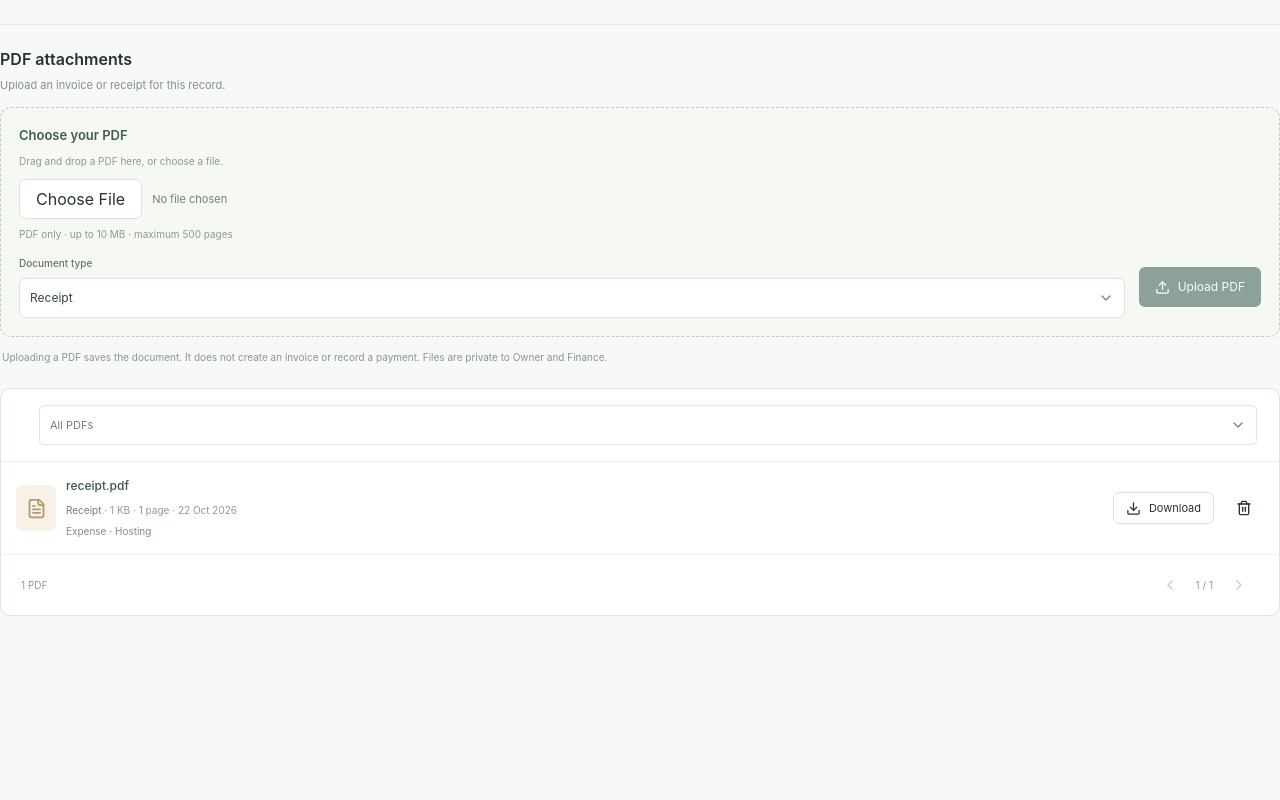
Test: requires confirmation before deleting and refreshes the list after deletion
Click the button named "Delete receipt.pdf" at (1244, 508), box [1224,488,1264,528]
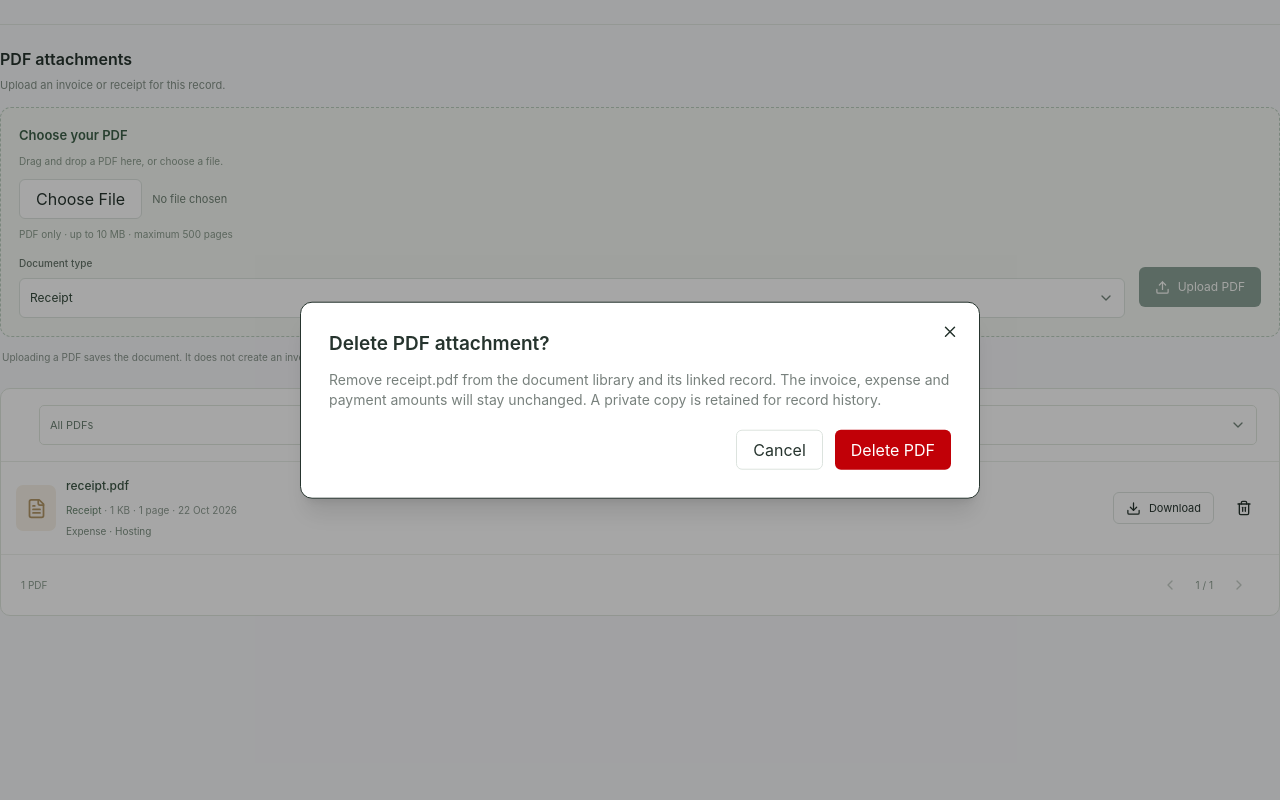
Click the button "Cancel" at (780, 449), box [736,429,823,469]
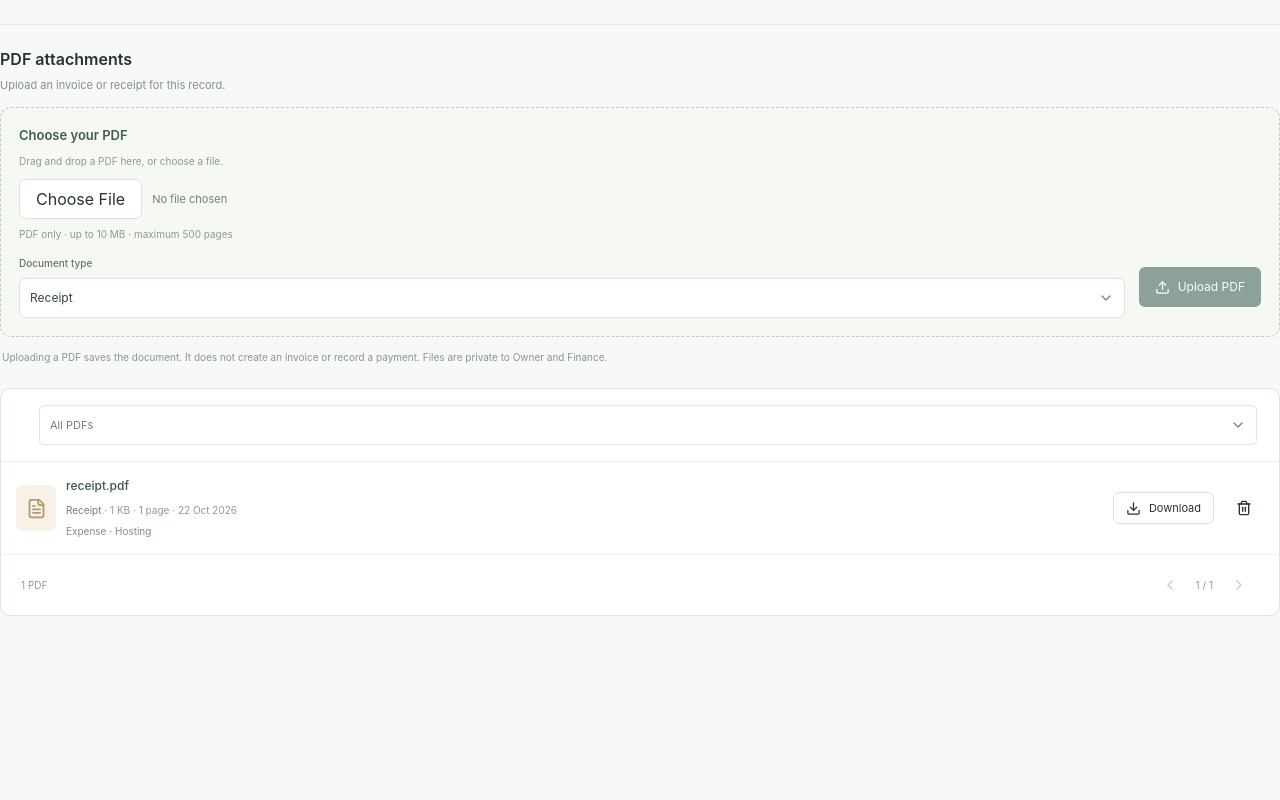
Click the button named "Delete receipt.pdf" at (1244, 508), box [1224,488,1264,528]
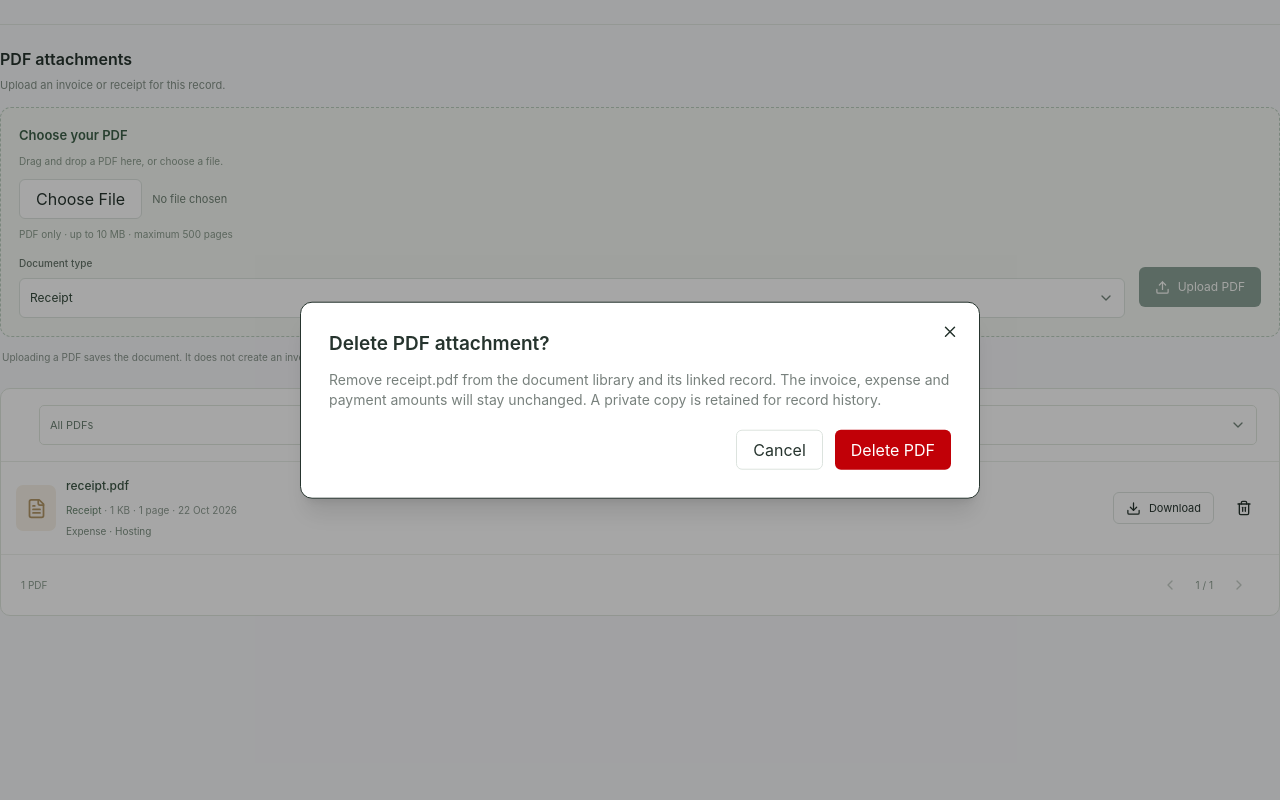
Click the button "Delete PDF" at (893, 449), box [835,429,951,469]
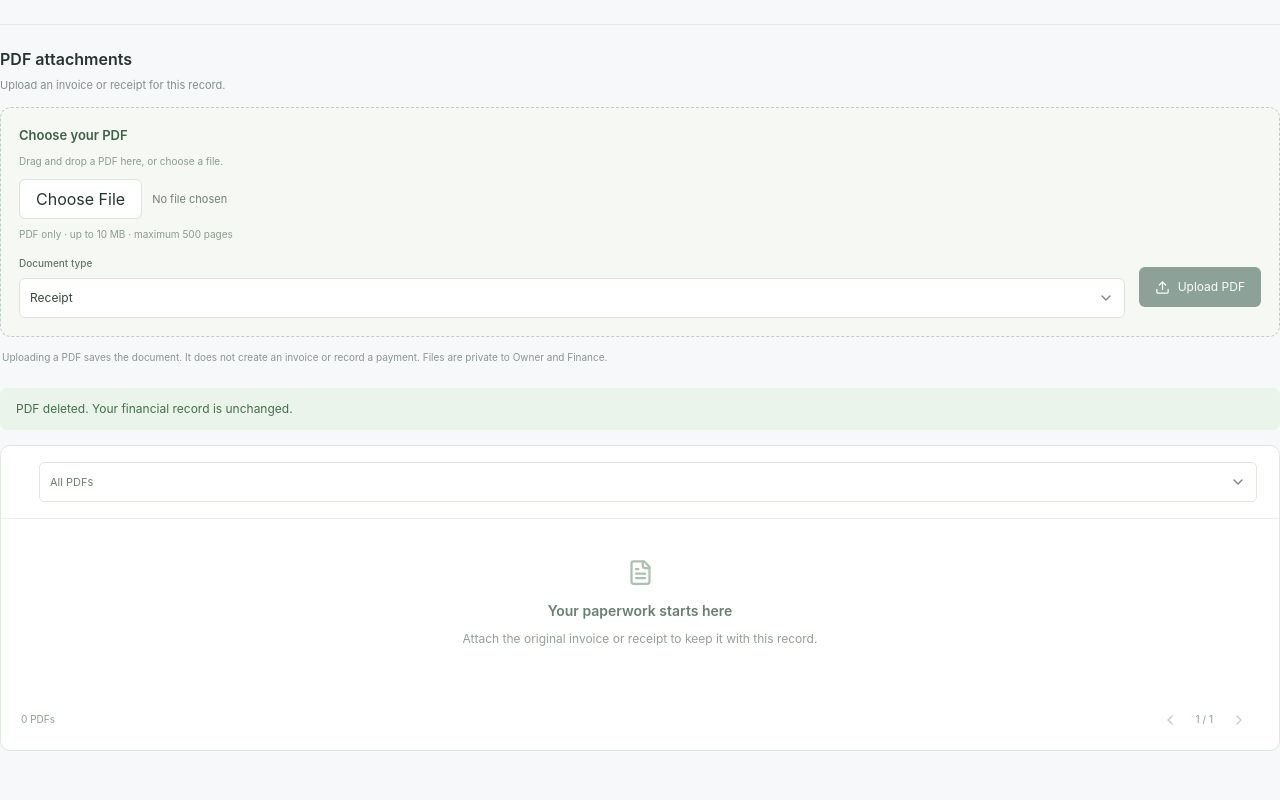
Expected: the text "PDF deleted. Your financial record is unchanged." is shown, [0,388,1279,430]
